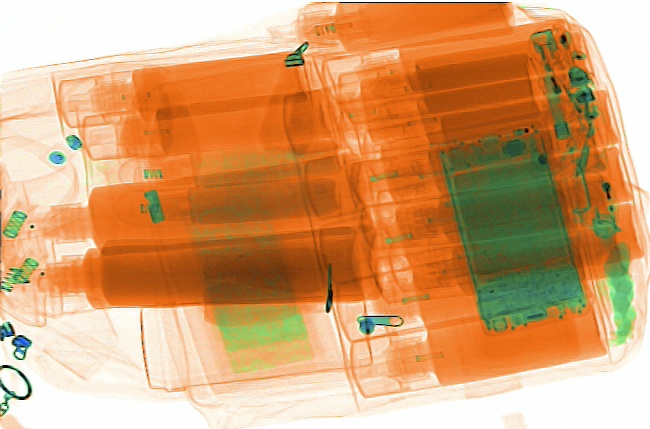lighter: (528, 25, 585, 122), (573, 130, 622, 239)
